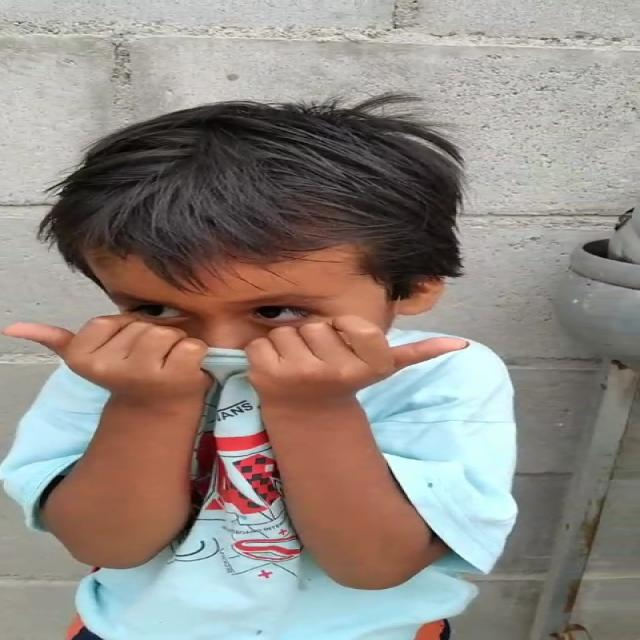8_ropa_rostro: (93, 333, 401, 466)
